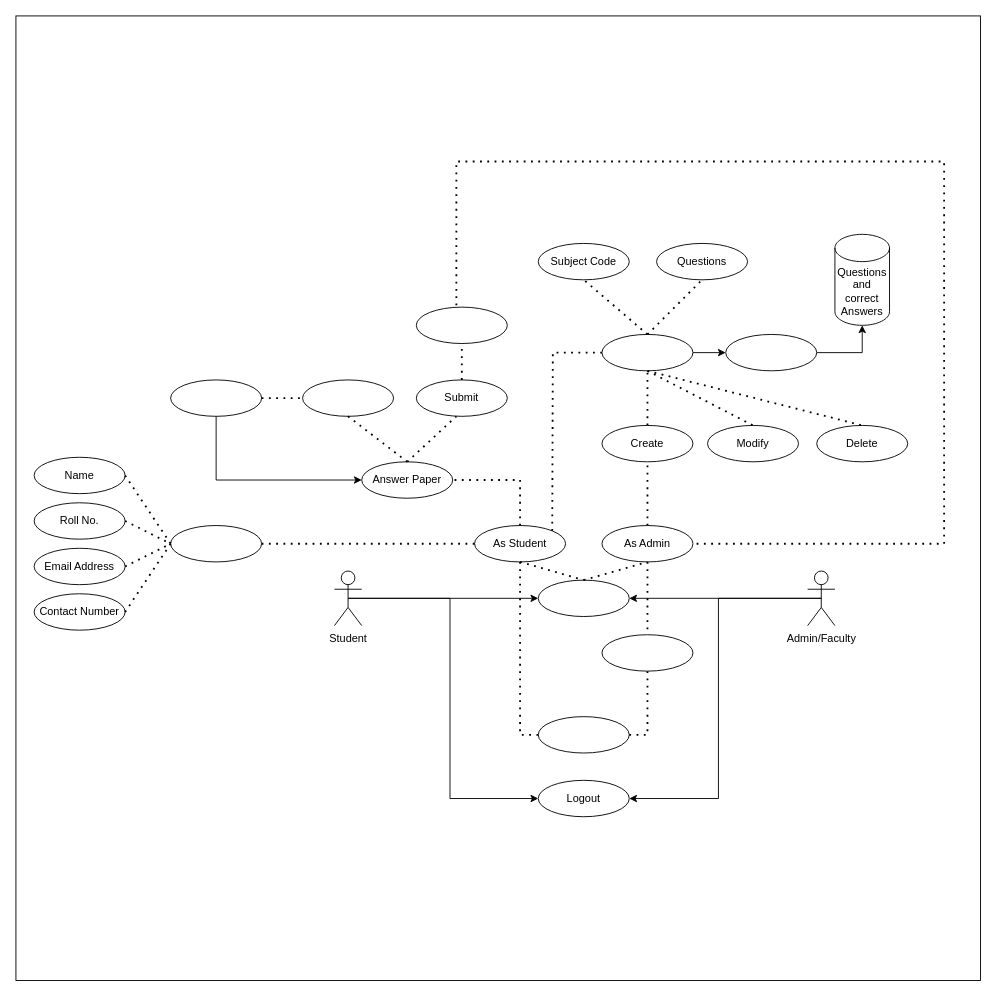
Some shapes in this 996 by 996 pixel diagram are drawn without their labels. The centre of each missing label's shape, as x and y in pixels:
Admin Secure Access: point 771,352
Login/Register: point 583,598
Marks Calculation: point 647,652
Modify Answers: point 216,397
Question Paper: point 647,352
Result in DESC order: point 583,734
Save: point 348,397
Student Details: point 216,543
Submitted Paper: point 461,325
